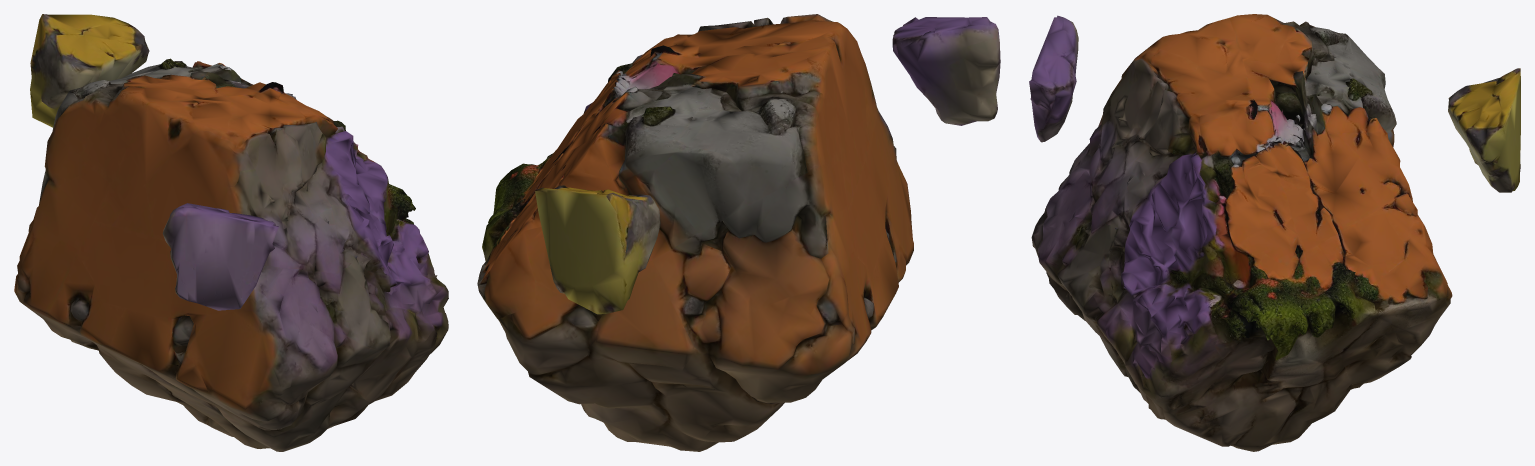
Rendered from rock_e.glb.
3 renders of one model, left to right at view 1: azimuth 30°, elevation 25°; view 2: azimuth 150°, elevation 25°; view 3: azimuth 270°, elevation 25°, orthographic. The views are drawn at different scales.
Parts seen in each view (by area): view 1: tripo_node_8ce38969; view 2: tripo_node_8ce38969; view 3: tripo_node_8ce38969.
Part boxes in pixels (bbox=[...]): tripo_node_8ce38969: bbox=[14, 14, 448, 451]; tripo_node_8ce38969: bbox=[477, 14, 1000, 451]; tripo_node_8ce38969: bbox=[1029, 14, 1520, 451].
Bounding box in the file's own units: 0.7919 × 0.7803 × 0.9792.
Materials: 1 (1 with a texture image).
